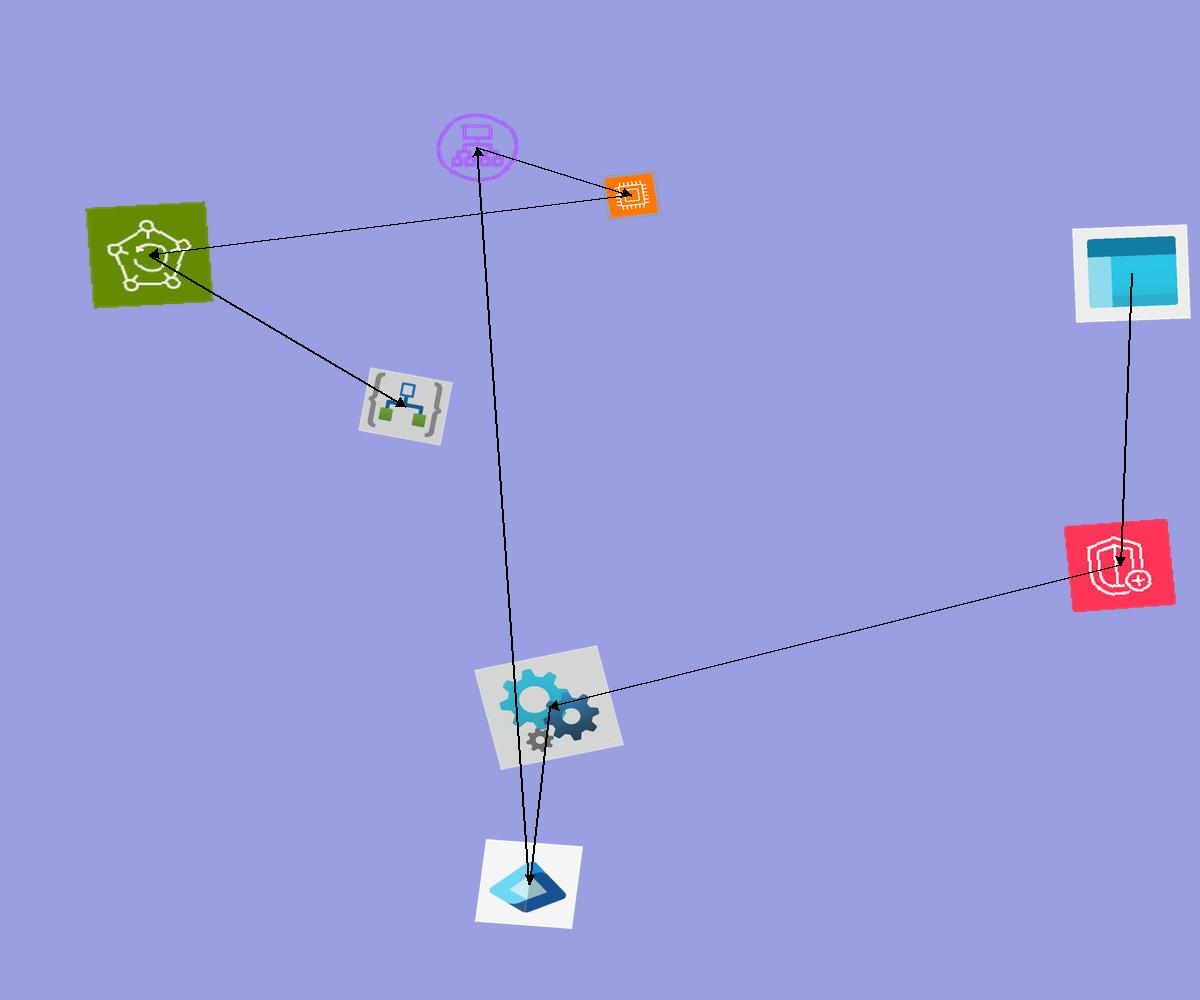AWS-Backup: (85, 201, 214, 309)
AWS-Category_Compute: (601, 170, 662, 221)
AWS-Res_Elastic-Load-Balancing_Application-Load-Balancer: (431, 109, 524, 186)
AWS-Shield: (1063, 518, 1177, 613)
Azure_api: (474, 645, 624, 770)
Azure_integration-204-Logic-Apps: (358, 367, 453, 446)
Azure_management-portal: (1072, 224, 1191, 323)
Azure_microsoft_entra: (475, 839, 583, 929)
